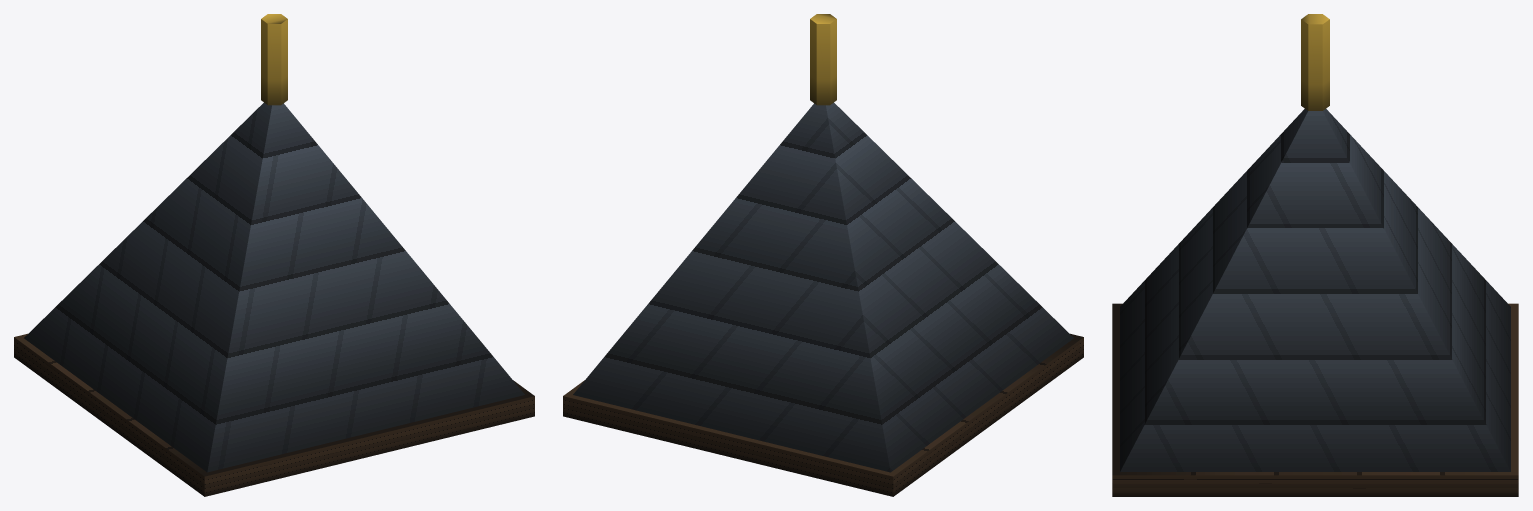
The model's file is cap_pyramid_green.gltf.
The picture shows the model from 3 angles, left to right: view 1: azimuth 30°, elevation 25°; view 2: azimuth 150°, elevation 25°; view 3: azimuth 270°, elevation 25°; orthographic projection. The views are drawn at different scales.
Visible parts, largest first — view 1: cap_pyramid_green; view 2: cap_pyramid_green; view 3: cap_pyramid_green.
Boxes of the visible parts, x1=… form: cap_pyramid_green: x1=14, y1=14, x2=534, y2=496; cap_pyramid_green: x1=563, y1=14, x2=1083, y2=496; cap_pyramid_green: x1=1112, y1=14, x2=1518, y2=496.
Size of the model in its own units: 0.85 by 0.905 by 0.85.
Materials: 1 (1 with a texture image).
